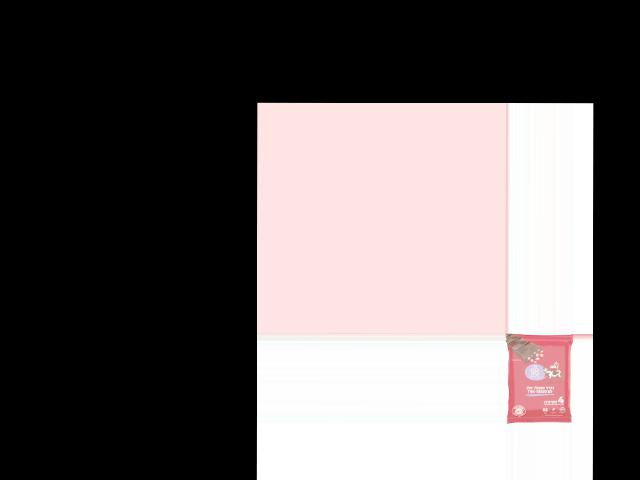chocolate: (508, 334, 572, 424)
